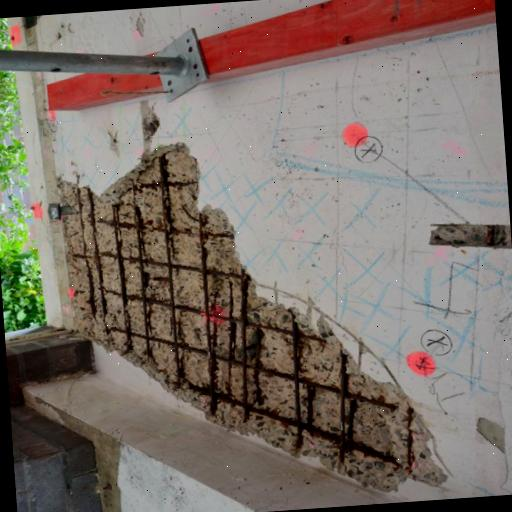spalling: (61, 95, 454, 490)
